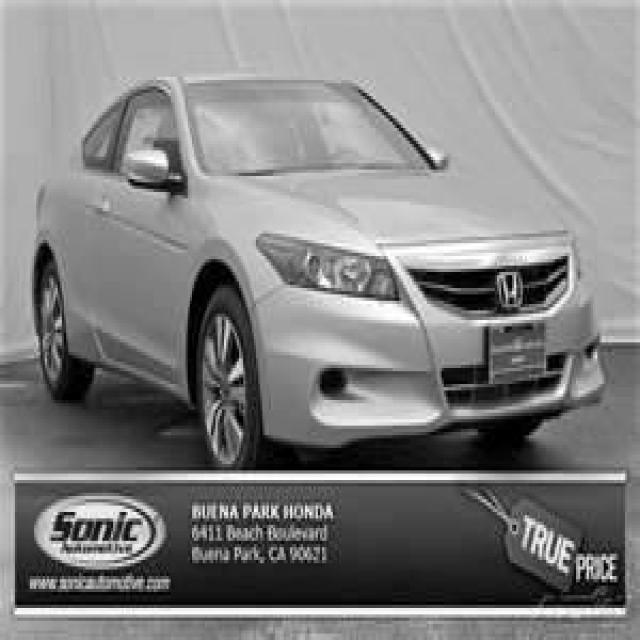car: (30, 70, 606, 470)
